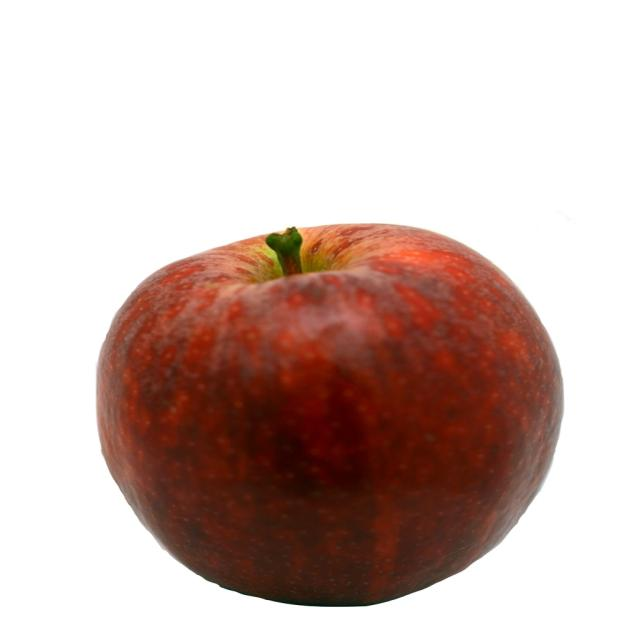Healty Apple: (93, 215, 566, 590)
